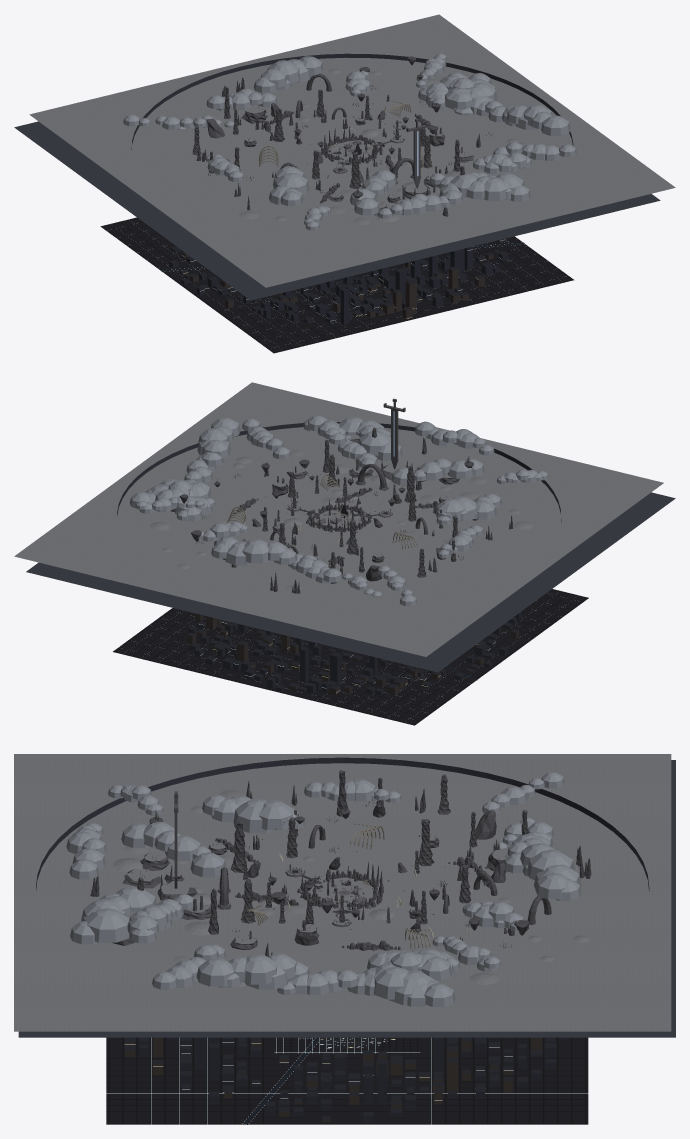
Rendered from DeathsGambitMaps_Lobby.fbx.
The picture shows the model from 3 angles, top to bottom: view 1: azimuth 30°, elevation 25°; view 2: azimuth 150°, elevation 25°; view 3: azimuth 270°, elevation 25°; orthographic projection. The views are drawn at different scales.
Parts seen in each view (by area): view 1: Map_Lobby_CityGround_2, Map_Lobby_Ash_23, Map_Lobby_Ash_27, Map_Lobby_Ash_26, Map_Lobby_Ash_30, Map_Lobby_Ash_31, Map_Lobby_Ash_25, Map_Lobby_Ash_22, Map_Lobby_Ash_21, Map_Lobby_Ash_28, Map_Lobby_CloudBank_5, Map_Lobby_Ash_18 (+38 smaller); view 2: Map_Lobby_CityGround_3, Map_Lobby_Ash_22, Map_Lobby_Ash_27, Map_Lobby_Ash_26, Map_Lobby_Ash_23, Map_Lobby_Ash_24, Map_Lobby_Ash_30, Map_Lobby_Ash_31, Map_Lobby_Ash_28, Map_Lobby_Ash_19, Map_Lobby_Ash_25, Map_Lobby_CloudBank_8 (+37 smaller); view 3: Map_Lobby_Ash_27, Map_Lobby_Ash_23, Map_Lobby_CityGround_3, Map_Lobby_CityGround_2, Map_Lobby_Ash_26, Map_Lobby_Ash_24, Map_Lobby_Ash_22, Map_Lobby_Ash_18, Map_Lobby_Ash_28, Map_Lobby_Ash_19, Map_Lobby_Ash_21, Map_Lobby_Ash_25 (+38 smaller).
Boxes of the visible parts, bbox=[...] form: Map_Lobby_CityGround_2: bbox=[213, 236, 574, 353]; Map_Lobby_Ash_23: bbox=[274, 60, 488, 142]; Map_Lobby_Ash_27: bbox=[139, 93, 332, 184]; Map_Lobby_Ash_26: bbox=[216, 160, 416, 241]; Map_Lobby_Ash_30: bbox=[148, 184, 294, 258]; Map_Lobby_Ash_31: bbox=[69, 127, 215, 200]; Map_Lobby_Ash_25: bbox=[295, 211, 470, 270]; Map_Lobby_Ash_22: bbox=[372, 118, 567, 199]; Map_Lobby_Ash_21: bbox=[435, 175, 607, 237]; Map_Lobby_Ash_28: bbox=[98, 64, 273, 126]; Map_Lobby_CloudBank_5: bbox=[276, 56, 488, 116]; Map_Lobby_Ash_18: bbox=[496, 101, 635, 175]; Map_Lobby_CityGround_3: bbox=[113, 608, 527, 725]; Map_Lobby_Ash_22: bbox=[205, 429, 417, 510]; Map_Lobby_Ash_27: bbox=[260, 528, 476, 610]; Map_Lobby_Ash_26: bbox=[358, 461, 553, 552]; Map_Lobby_Ash_23: bbox=[123, 488, 318, 577]; Map_Lobby_Ash_24: bbox=[83, 544, 259, 606]; Map_Lobby_Ash_30: bbox=[477, 495, 623, 569]; Map_Lobby_Ash_31: bbox=[397, 553, 544, 627]; Map_Lobby_Ash_28: bbox=[220, 578, 396, 640]; Map_Lobby_Ash_19: bbox=[54, 469, 171, 544]; Map_Lobby_Ash_25: bbox=[419, 438, 595, 494]; Map_Lobby_CloudBank_8: bbox=[391, 458, 544, 538]; Map_Lobby_Ash_27: bbox=[342, 800, 561, 892]; Map_Lobby_Ash_23: bbox=[342, 893, 561, 985]; Map_Lobby_CityGround_3: bbox=[274, 1037, 588, 1124]; Map_Lobby_CityGround_2: bbox=[106, 1037, 274, 1124]; Map_Lobby_Ash_26: bbox=[120, 800, 342, 893]; Map_Lobby_Ash_24: bbox=[561, 893, 671, 985]; Map_Lobby_Ash_22: bbox=[123, 883, 343, 985]; Map_Lobby_Ash_18: bbox=[123, 984, 342, 1031]; Map_Lobby_Ash_28: bbox=[561, 800, 671, 892]; Map_Lobby_Ash_19: bbox=[342, 985, 561, 1031]; Map_Lobby_Ash_21: bbox=[14, 893, 123, 985]; Map_Lobby_Ash_25: bbox=[14, 800, 125, 892].
Size of the model in its own units: 3098 by 1222 by 3022.
Materials: 30 (11 with a texture image).
